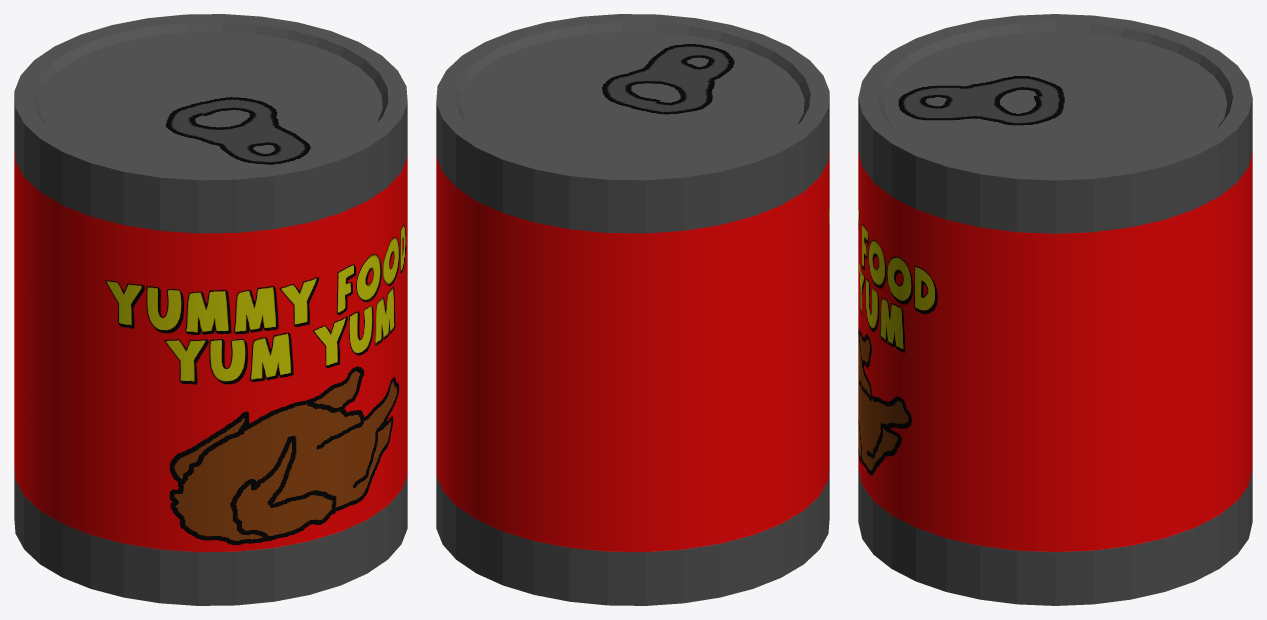
The model's file is can.fbx.
The picture shows the model from 3 angles, left to right: view 1: azimuth 30°, elevation 25°; view 2: azimuth 150°, elevation 25°; view 3: azimuth 270°, elevation 25°; orthographic projection.
Parts seen in each view (by area): view 1: Cylinder; view 2: Cylinder; view 3: Cylinder.
Part boxes in pixels (x1,y1,x2,y2): Cylinder: [14, 14, 407, 605]; Cylinder: [436, 14, 829, 605]; Cylinder: [858, 14, 1252, 605].
Size of the model in its own units: 200 by 238 by 200.
1 material, 1 textured.
